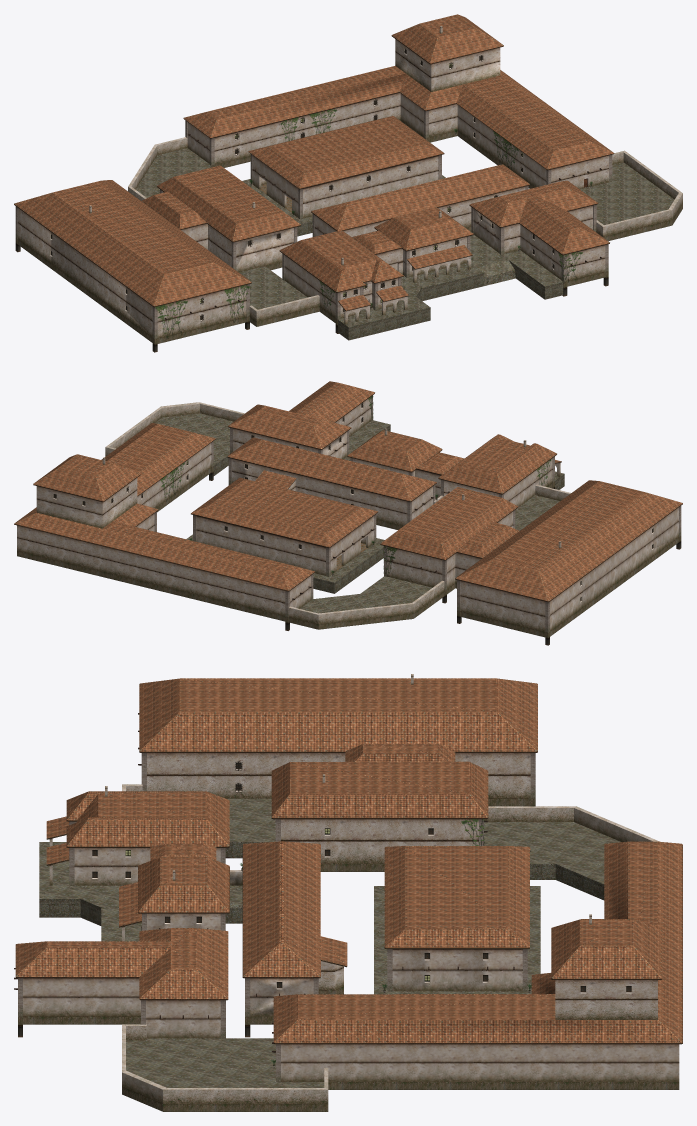
Rendered from DRGVLA.glb.
3 views of the same model, one above another, from view 1: azimuth 30°, elevation 25°; view 2: azimuth 150°, elevation 25°; view 3: azimuth 270°, elevation 25° (orthographic). The views are drawn at different scales.
Visible parts, largest first — view 1: _DRGVLA; view 2: _DRGVLA; view 3: _DRGVLA.
Part boxes in pixels (x1=…): _DRGVLA: x1=14, y1=14, x2=682, y2=352; _DRGVLA: x1=14, y1=381, x2=682, y2=645; _DRGVLA: x1=14, y1=674, x2=682, y2=1111.
Size of the model in its own units: 131 by 24.04 by 99.54.
Materials: 11 (11 with a texture image).
